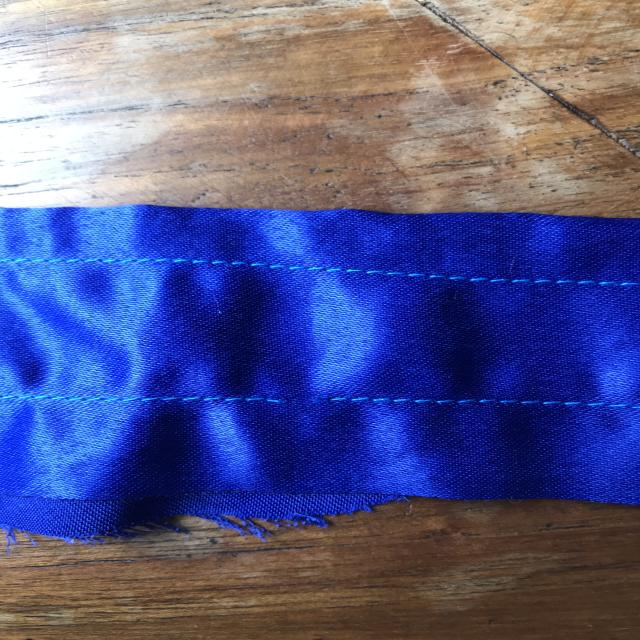broken: (252, 380, 382, 422)
good: (270, 244, 436, 298)
